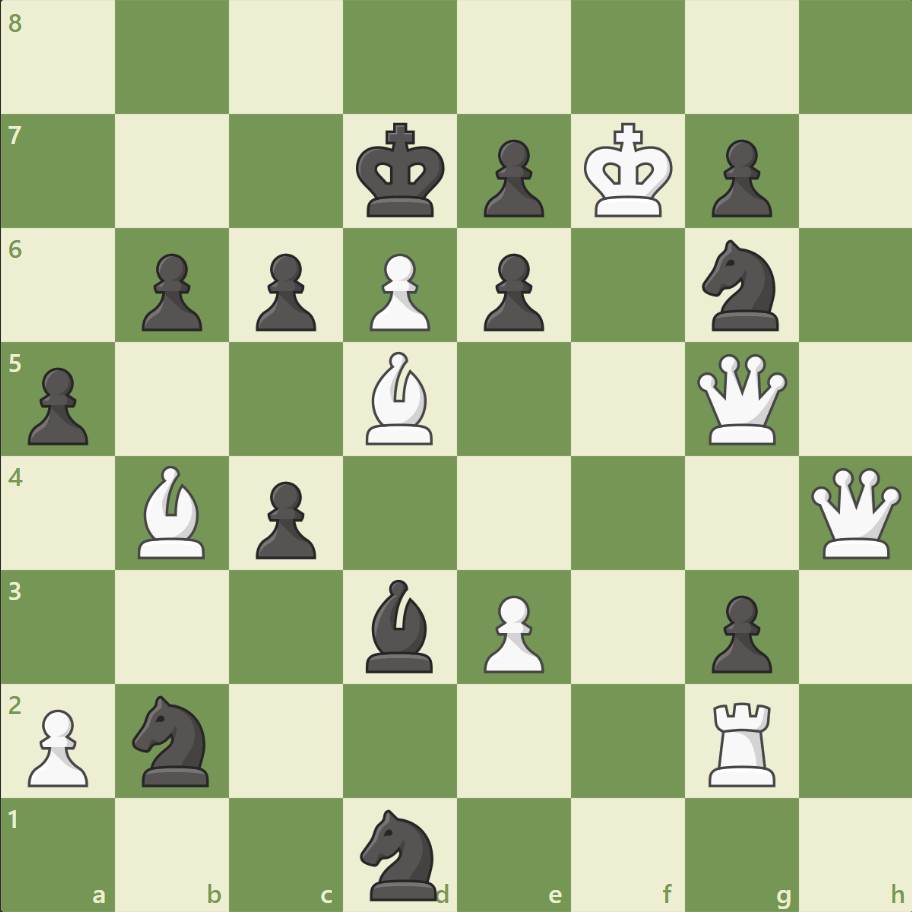B: (131, 460, 215, 563), (358, 347, 442, 449)
K: (579, 117, 679, 225)
P: (474, 586, 549, 677), (20, 700, 95, 791), (361, 246, 435, 337)
Q: (691, 349, 790, 449), (805, 463, 904, 562)
R: (700, 693, 783, 790)
b: (358, 574, 442, 676)
k: (351, 117, 451, 225)
n: (124, 688, 222, 791), (351, 802, 449, 904), (692, 234, 789, 337)
p: (474, 132, 549, 223), (701, 132, 776, 223), (133, 246, 208, 337), (247, 246, 322, 337), (474, 246, 549, 337), (20, 359, 95, 450), (247, 473, 322, 564), (701, 586, 776, 677)
